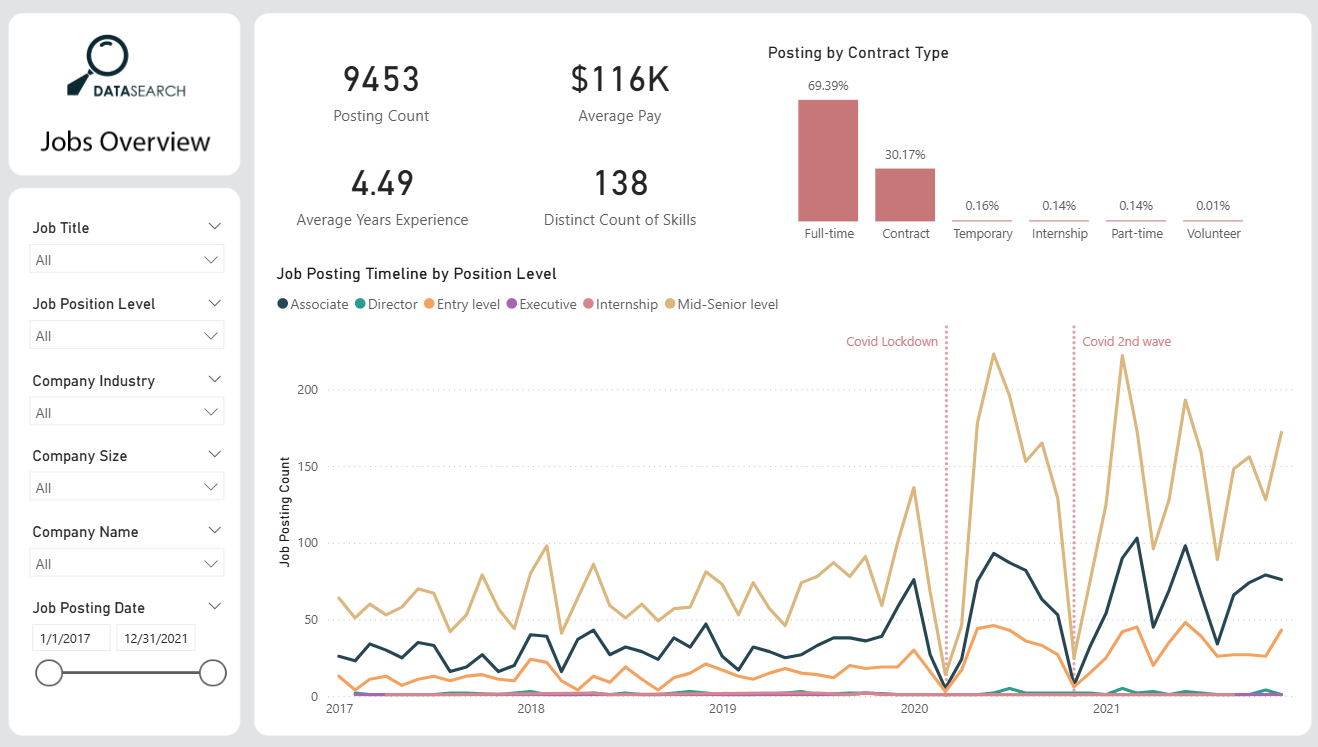

What the dashboard file says about the page in this screenshot:
{"tool":"powerbi","page":{"name":"JOBS-Dashboard","canvas":[1280,720],"ordinal":1},"visuals":[{"type":"image","box":[0,0,1280.2,719.8],"z":500},{"type":"lineChart","title":"Job Posting Timeline by Position Level","fields":{"Category":["Job Postings.Job Posting Date.Variation.Date Hierarchy.Year","Job Postings.Job Posting Date.Variation.Date Hierarchy.Quarter","Job Postings.Job Posting Date.Variation.Date Hierarchy.Month","Job Postings.Job Posting Date.Variation.Date Hierarchy.Day"],"Y":["CountNonNull(Job Postings.Job Posting ID)"],"Series":["Job Postings.Job Position Level"]},"box":[272.2,254.9,977.8,440.6],"z":1000},{"type":"card","fields":{"Values":["_Measures.Posting Count"]},"box":[305.7,45.4,142.8,84],"z":2000},{"type":"card","fields":{"Values":["Avg(Job Postings.Years of Experience)"]},"box":[283.7,143.6,188.1,84],"z":3000},{"type":"card","fields":{"Values":["Count(Job Skills.Job Skills)"]},"box":[501,143.6,204.9,84],"z":4000},{"type":"card","fields":{"Values":["_Measures.Average of Average Pay"]},"box":[531.5,45.4,142.8,84],"z":5000},{"type":"slicer","fields":{"Values":["Job Postings.Job Title"]},"box":[31.7,207.8,205.1,72.9],"z":6000},{"type":"slicer","fields":{"Values":["Job Postings.Job Position Level"]},"box":[31.7,280.8,205.1,71.6],"z":7000},{"type":"slicer","fields":{"Values":["Job Postings.Company Industry"]},"box":[31.7,352.3,205.1,71.6],"z":8000},{"type":"slicer","fields":{"Values":["Job Postings.Company Size"]},"box":[31.7,423.9,205.1,72.9],"z":9000},{"type":"slicer","fields":{"Values":["Job Postings.Company Name"]},"box":[31.7,496.9,205.1,71.6],"z":10000},{"type":"slicer","fields":{"Values":["Job Postings.Job Posting Date"]},"box":[31.7,568.4,205.1,151.4],"z":11000},{"type":"clusteredColumnChart","title":"Posting by Contract Type","fields":{"Category":["Job Postings.Job Position Type"],"Y":["_Measures.Posting Count"]},"box":[738.7,44.6,492.5,200.2],"z":12000},{"type":"shape","box":[61.5,23.9,150.4,90.6],"z":13000}]}

Visuals, with their boxes in screenshot pixels (x1, y1, x2, y2), scaled from the page's 1280x720 canvas onto the 1318x747 screenshot:
image: (0, 0, 1317, 746)
"Job Posting Timeline by Position Level" lineChart: (280, 264, 1287, 722)
card - _Measures.Posting Count: (315, 47, 462, 134)
card - Avg(Job Postings.Years of Experience): (292, 149, 486, 236)
card - Count(Job Skills.Job Skills): (516, 149, 727, 236)
card - _Measures.Average of Average Pay: (547, 47, 694, 134)
slicer - Job Postings.Job Title: (33, 216, 244, 291)
slicer - Job Postings.Job Position Level: (33, 291, 244, 366)
slicer - Job Postings.Company Industry: (33, 366, 244, 440)
slicer - Job Postings.Company Size: (33, 440, 244, 515)
slicer - Job Postings.Company Name: (33, 516, 244, 590)
slicer - Job Postings.Job Posting Date: (33, 590, 244, 746)
"Posting by Contract Type" clusteredColumnChart: (761, 46, 1268, 254)
shape: (63, 25, 218, 119)
